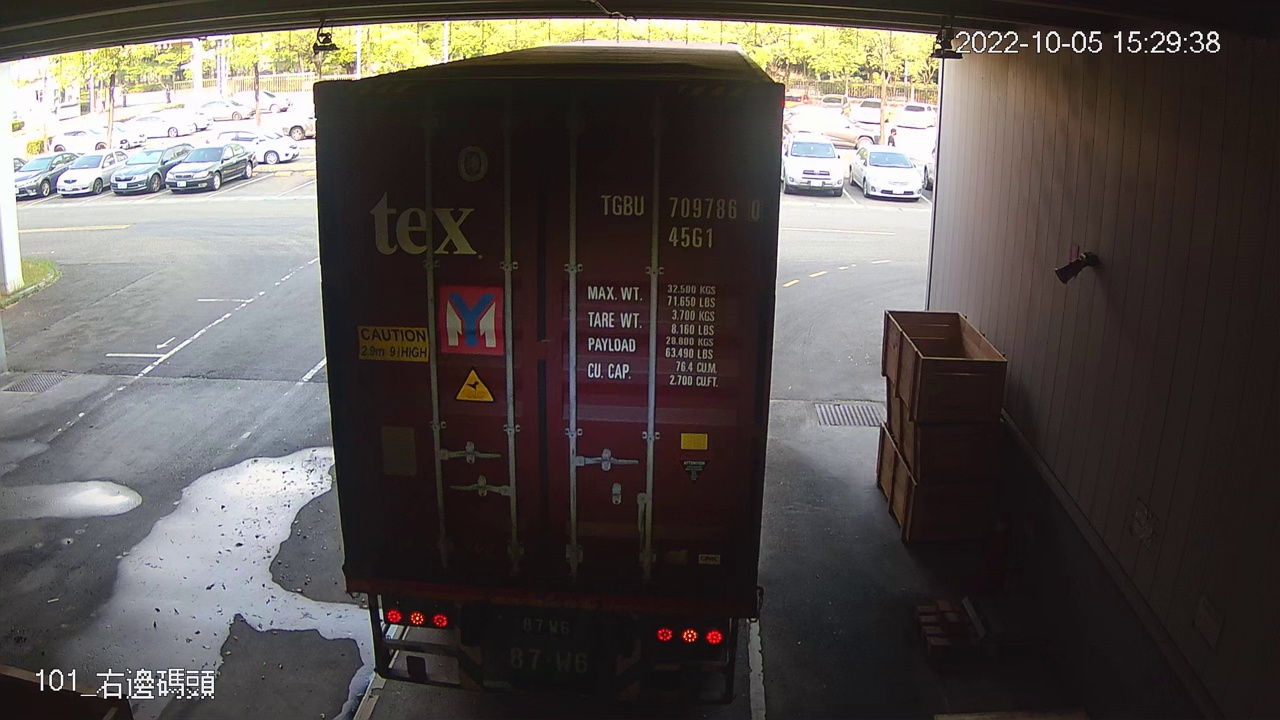container: (591, 185, 766, 257)
